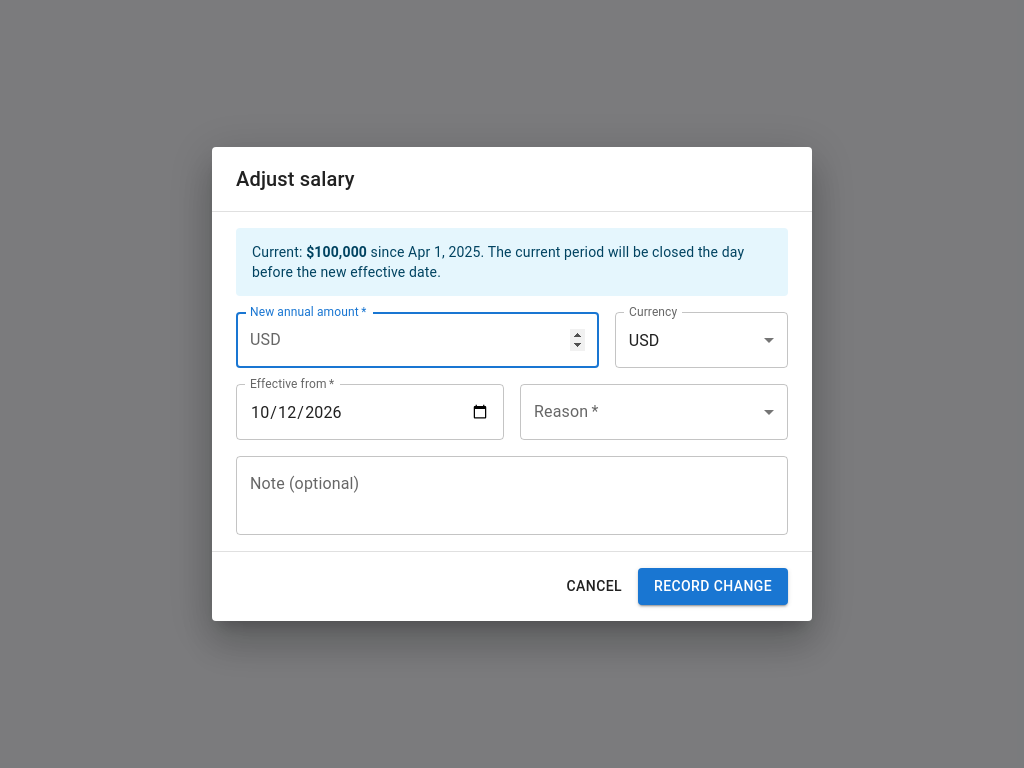
Test: AdjustSalaryDialog › shows the current salary and blocks an effective date before the current period
This screenshot has width=1024, height=768.
Expected: the text "Current:" shows "$100,000", [306,244,367,260]
Type "110000" into the number field labelled "New annual amount *" at (444, 340), box [289,312,599,368]
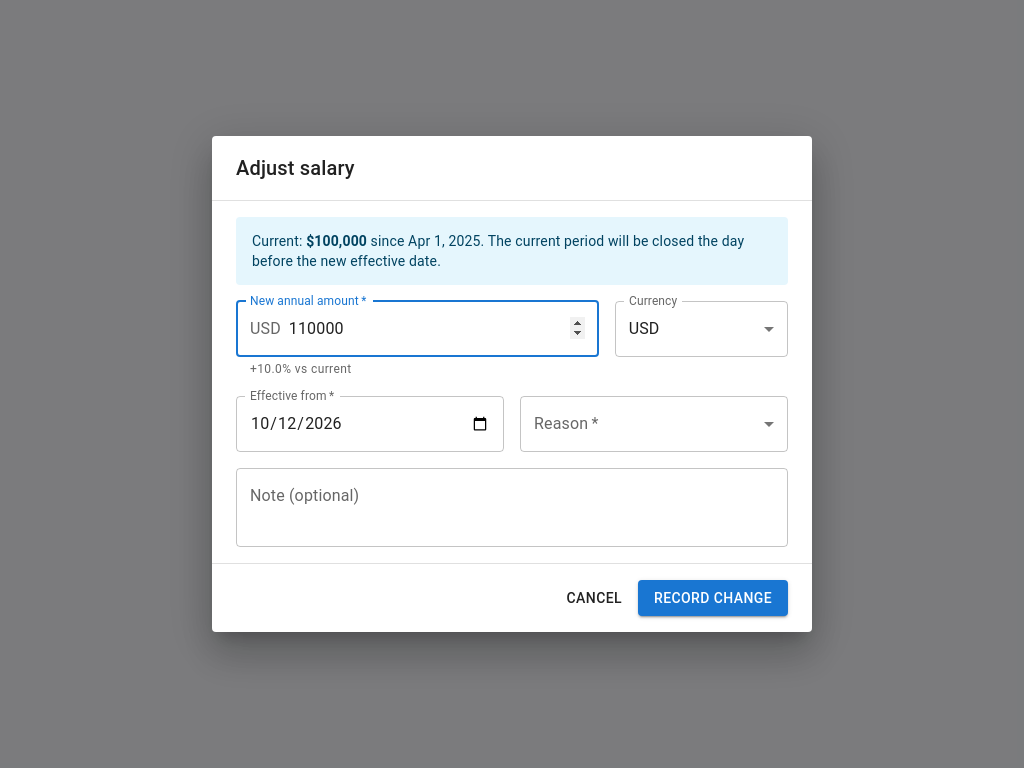
Type "2024-01-01" into the date field labelled "Effective from *" at (370, 424), box [236,396,504,452]
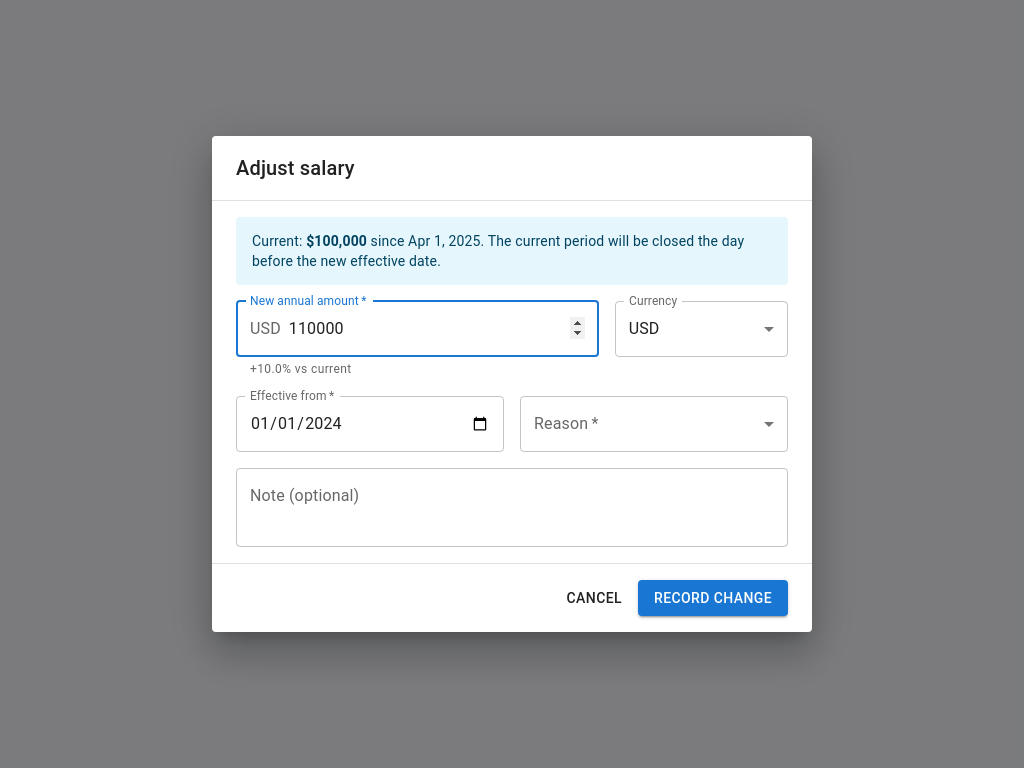
Click the button "Record change" at (713, 598), box [638,580,788,616]
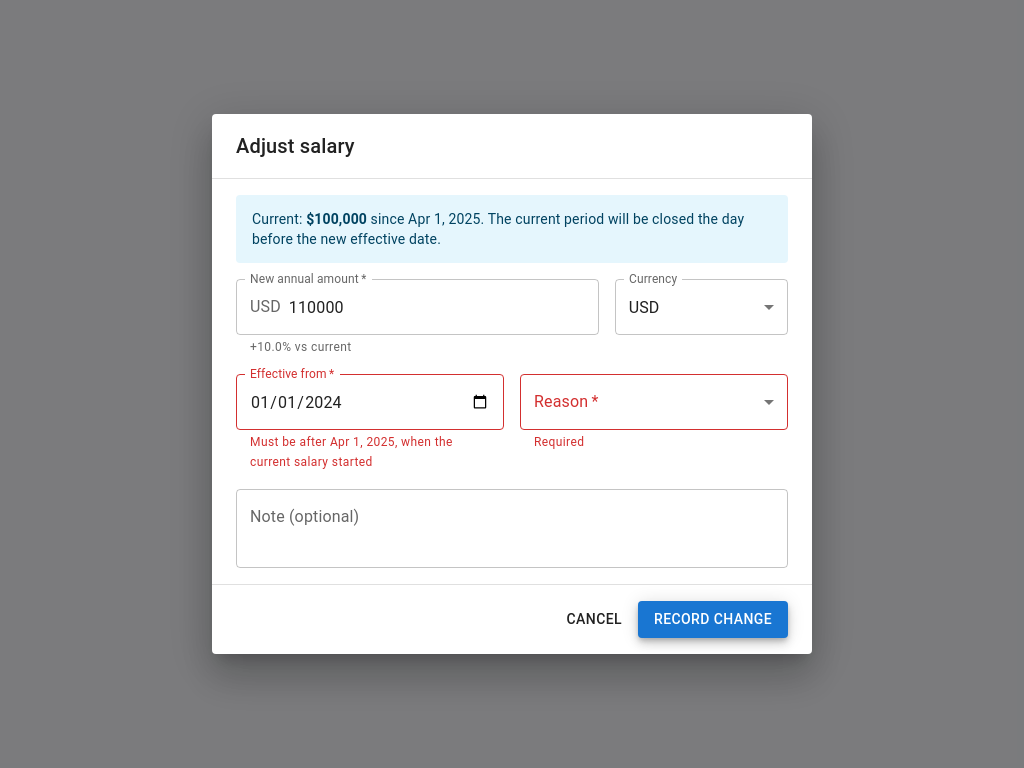
Expected: the text "Must be after Apr 1, 2025, when the current salary started" is shown, [250,435,453,469]
Expected: the text "Required" is shown, [534,435,584,449]
